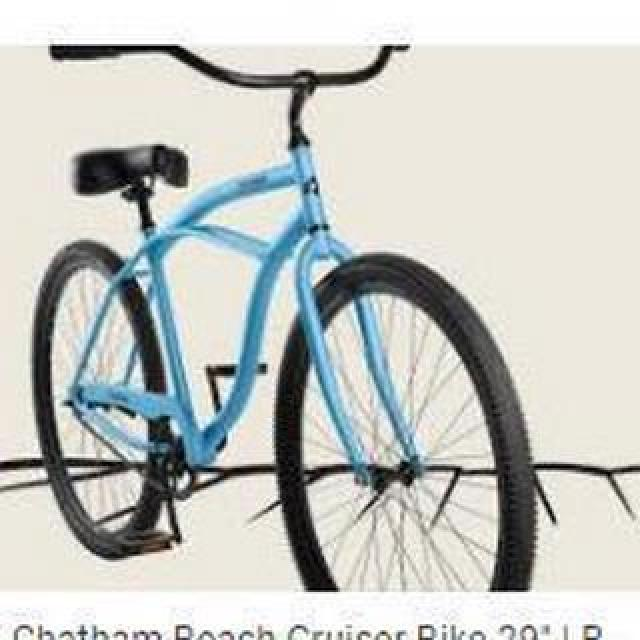Person: (28, 42, 546, 588)
